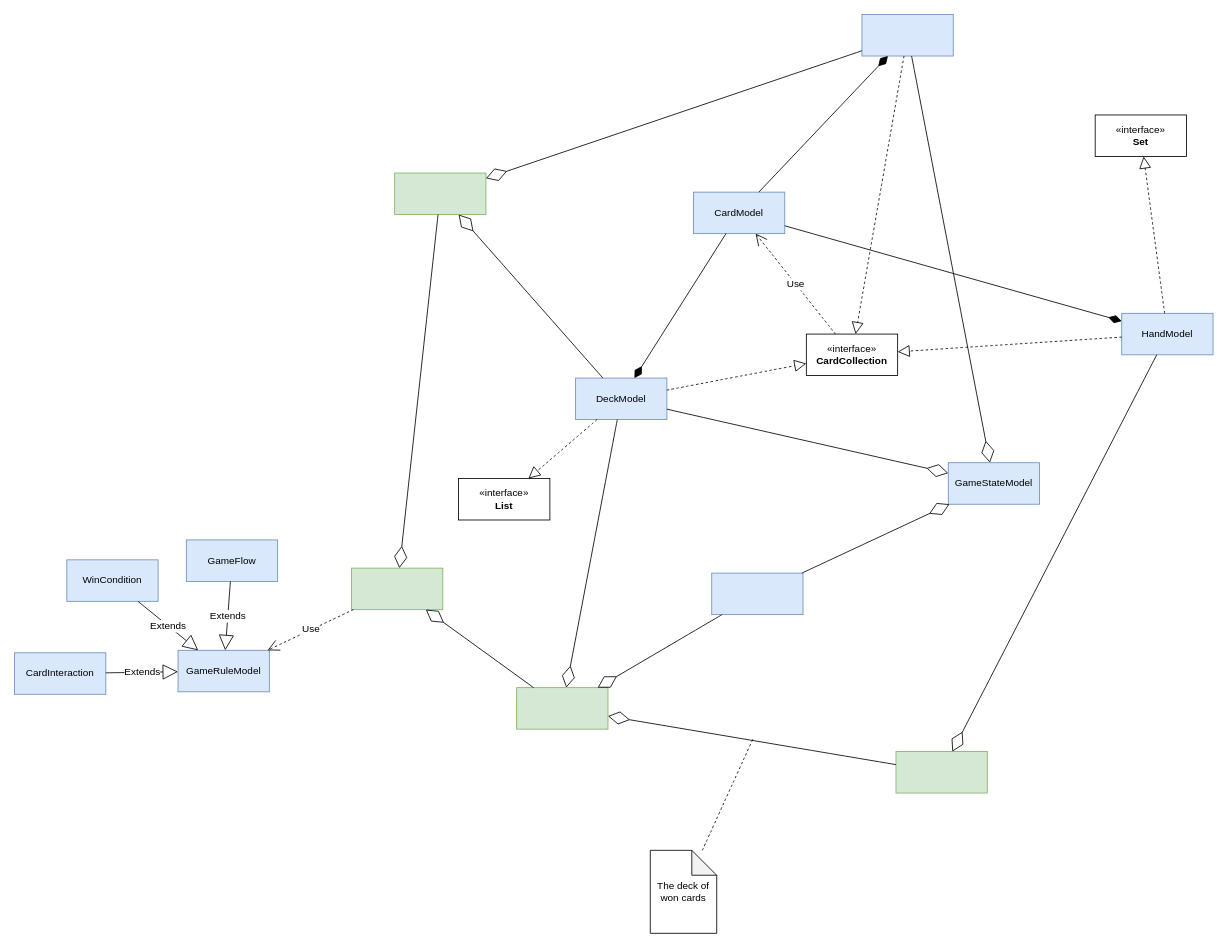
The diagram is 1228 pixels wide and 948 high, and some of its shapes have lost their labels. The centre of each missing label's shape, as x and y in pixels:
"GameEngine" belongs at (x=397, y=588).
"HandController" belongs at (x=941, y=772).
"PlayerController" belongs at (x=562, y=708).
"PlayerModel" belongs at (x=757, y=593).
"TableController" belongs at (x=440, y=193).
"TableModel" belongs at (x=907, y=35).
